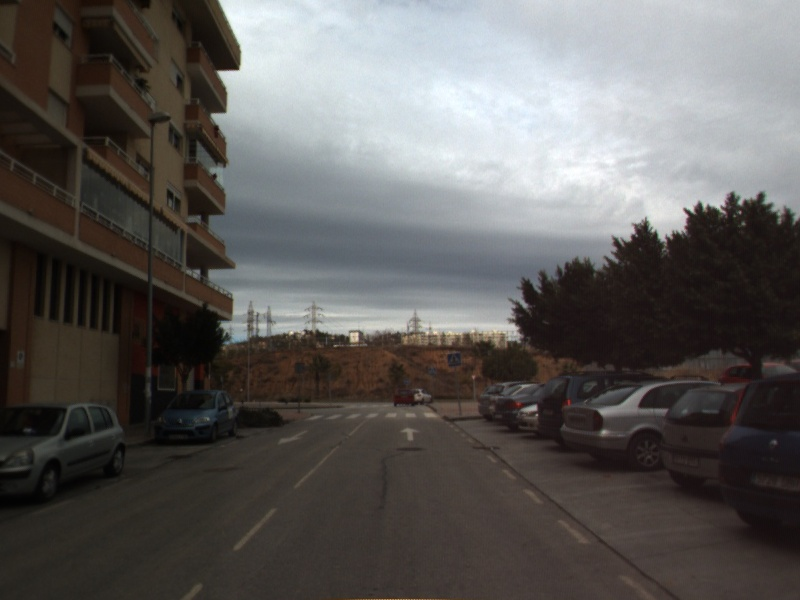STRAIGHT: (398, 426, 422, 443)
